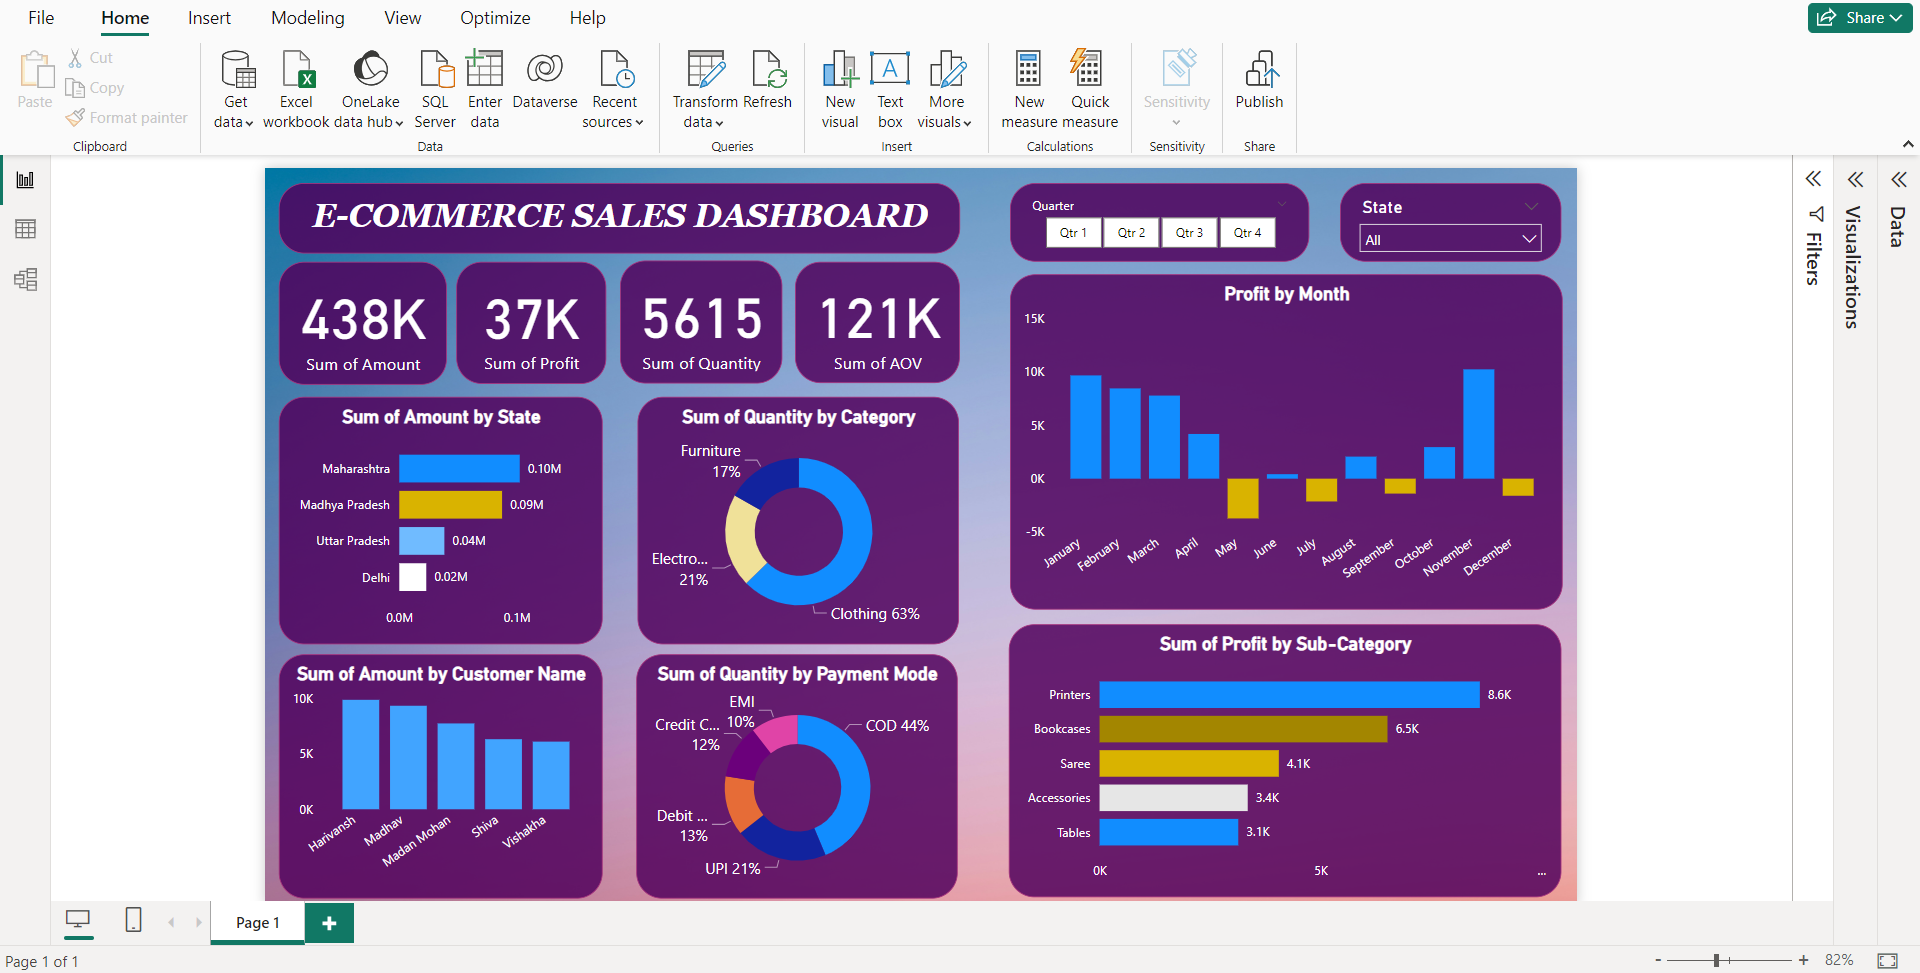

Layout of this report page (visuals, bound fields, positions):
{"tool":"powerbi","page":{"name":"Page 1","canvas":[1280,720],"ordinal":0},"visuals":[{"type":"textbox","box":[13.3,14.5,664.5,68.7],"z":0},{"type":"columnChart","title":"Profit by Month","fields":{"Category":["Orders.Order Date.Variation.Date Hierarchy.Month"],"Y":["Sum(Details.Profit)"]},"box":[727.2,103.7,539.1,326.8],"z":1000},{"type":"barChart","fields":{"Category":["Details.Sub-Category"],"Y":["Sum(Details.Profit)"]},"box":[726,445,539.1,266.5],"z":2000},{"type":"donutChart","fields":{"Category":["Details.Category"],"Y":["Sum(Details.Quantity)"]},"box":[363,223.1,313.6,241.2],"z":3000},{"type":"donutChart","title":"Sum of Quantity by Payment Mode","fields":{"Y":["Sum(Details.Quantity)"],"Category":["Details.PaymentMode"]},"box":[362.5,473.9,313.6,238.6],"z":4000},{"type":"card","fields":{"Values":["Sum(Details.Amount)"]},"box":[13,91,164,120],"z":5000},{"type":"card","fields":{"Values":["Sum(Details.Quantity)"]},"box":[346,90,158,120],"z":6000},{"type":"card","fields":{"Values":["Sum(Details.Profit)"]},"box":[187,91,146,119],"z":7000},{"type":"card","fields":{"Values":["Sum(Details.AOV)"]},"box":[517,92,161,118],"z":8000},{"type":"barChart","fields":{"Category":["Orders.State"],"Y":["Sum(Details.Amount)"]},"box":[13.3,223.1,316,241.2],"z":9000},{"type":"columnChart","title":"Sum of Amount by Customer Name","fields":{"Category":["Orders.CustomerName"],"Y":["Sum(Details.Amount)"]},"box":[13.6,473.9,315.9,238.6],"z":10000},{"type":"slicer","fields":{"Values":["Orders.Order Date.Variation.Date Hierarchy.Quarter"]},"box":[727.2,14.5,291.9,77.2],"z":11000},{"type":"slicer","fields":{"Values":["Orders.State"]},"box":[1049.2,14.5,215.9,77.2],"z":12000}]}

Visuals, with their boxes on the page's 1280x720 design canvas (x1, y1, x2, y2). These are canvas units, not pixel positions in the 1920x973 screenshot, which may show the page scaled, cropped or inside an application window:
textbox: [left=13, top=14, right=678, bottom=83]
"Profit by Month" columnChart: [left=727, top=104, right=1266, bottom=430]
barChart - Details.Sub-Category x Sum(Details.Profit): [left=726, top=445, right=1265, bottom=712]
donutChart - Details.Category x Sum(Details.Quantity): [left=363, top=223, right=677, bottom=464]
"Sum of Quantity by Payment Mode" donutChart: [left=362, top=474, right=676, bottom=712]
card - Sum(Details.Amount): [left=13, top=91, right=177, bottom=211]
card - Sum(Details.Quantity): [left=346, top=90, right=504, bottom=210]
card - Sum(Details.Profit): [left=187, top=91, right=333, bottom=210]
card - Sum(Details.AOV): [left=517, top=92, right=678, bottom=210]
barChart - Orders.State x Sum(Details.Amount): [left=13, top=223, right=329, bottom=464]
"Sum of Amount by Customer Name" columnChart: [left=14, top=474, right=330, bottom=712]
slicer - Orders.Order Date.Variation.Date Hierarchy.Quarter: [left=727, top=14, right=1019, bottom=92]
slicer - Orders.State: [left=1049, top=14, right=1265, bottom=92]
